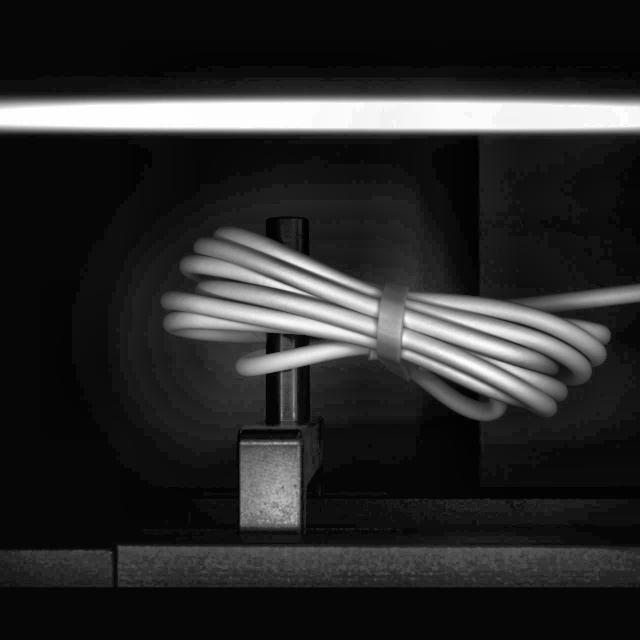Cable: (157, 219, 640, 426)
